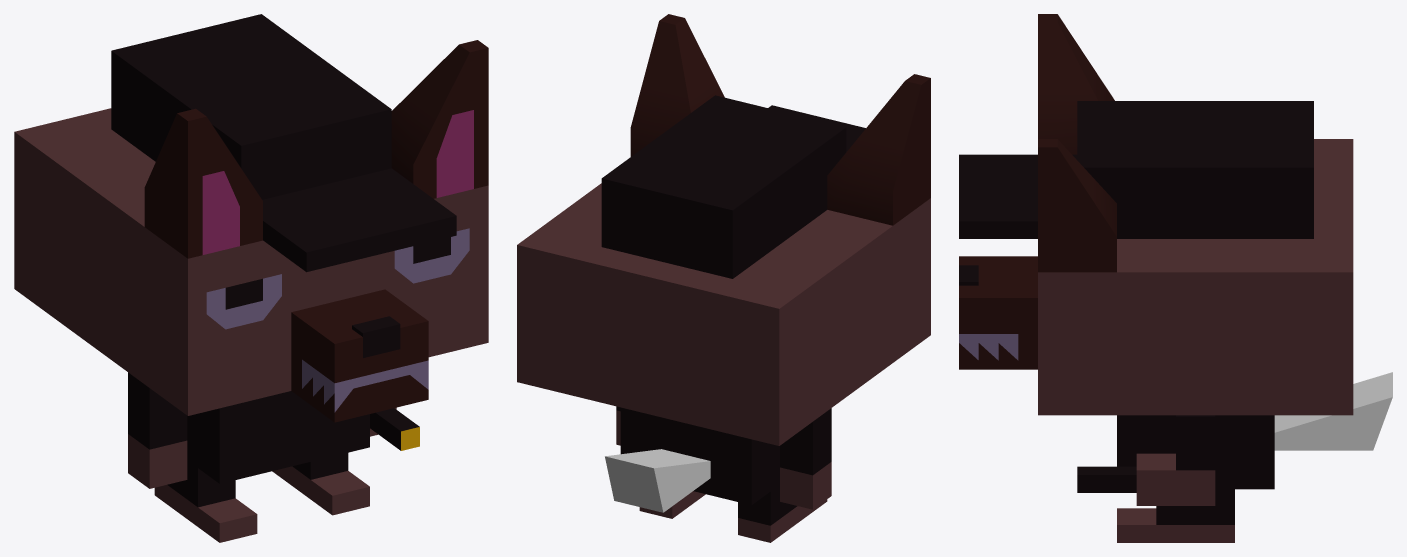
The model's file is guard_dog_static.dae.
The picture shows the model from 3 angles, left to right: view 1: azimuth 30°, elevation 25°; view 2: azimuth 150°, elevation 25°; view 3: azimuth 270°, elevation 25°; orthographic projection. The views are drawn at different scales.
Visible parts, largest first — view 1: head_MSH, body_MSH, R_arm_MSH, R_leg_MSH, L_leg_MSH, L_arm_MSH; view 2: head_MSH, body_MSH, tail_MSH, R_arm_MSH, R_leg_MSH, L_leg_MSH; view 3: head_MSH, L_arm_MSH, body_MSH, tail_MSH, L_leg_MSH.
Part boxes in pixels (bbox=[...]): head_MSH: bbox=[14, 14, 488, 422]; body_MSH: bbox=[187, 391, 369, 483]; R_arm_MSH: bbox=[128, 372, 187, 488]; R_leg_MSH: bbox=[154, 460, 257, 542]; L_leg_MSH: bbox=[272, 453, 369, 515]; L_arm_MSH: bbox=[370, 407, 419, 450]; head_MSH: bbox=[517, 14, 930, 445]; body_MSH: bbox=[620, 407, 779, 505]; tail_MSH: bbox=[605, 449, 710, 512]; R_arm_MSH: bbox=[780, 408, 831, 509]; R_leg_MSH: bbox=[738, 485, 827, 542]; L_leg_MSH: bbox=[639, 491, 705, 518]; head_MSH: bbox=[959, 14, 1353, 415]; L_arm_MSH: bbox=[1077, 415, 1215, 505]; body_MSH: bbox=[1117, 415, 1274, 489]; tail_MSH: bbox=[1274, 372, 1392, 450]; L_leg_MSH: bbox=[1117, 489, 1234, 542].
Bounding box in the file's own units: 0.667 × 1 × 0.9171.
